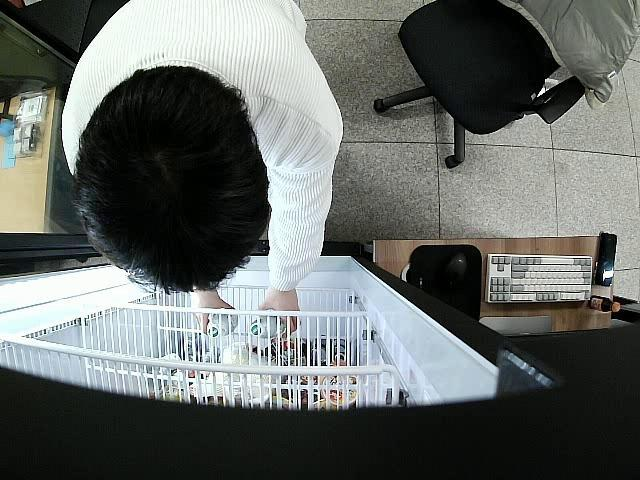18_trevi: (206, 306, 237, 338), (252, 312, 288, 338)
